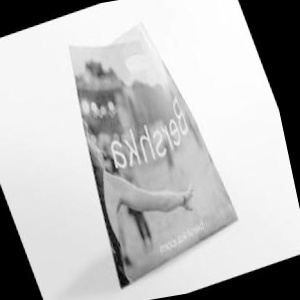bershka: (86, 86, 294, 212)
